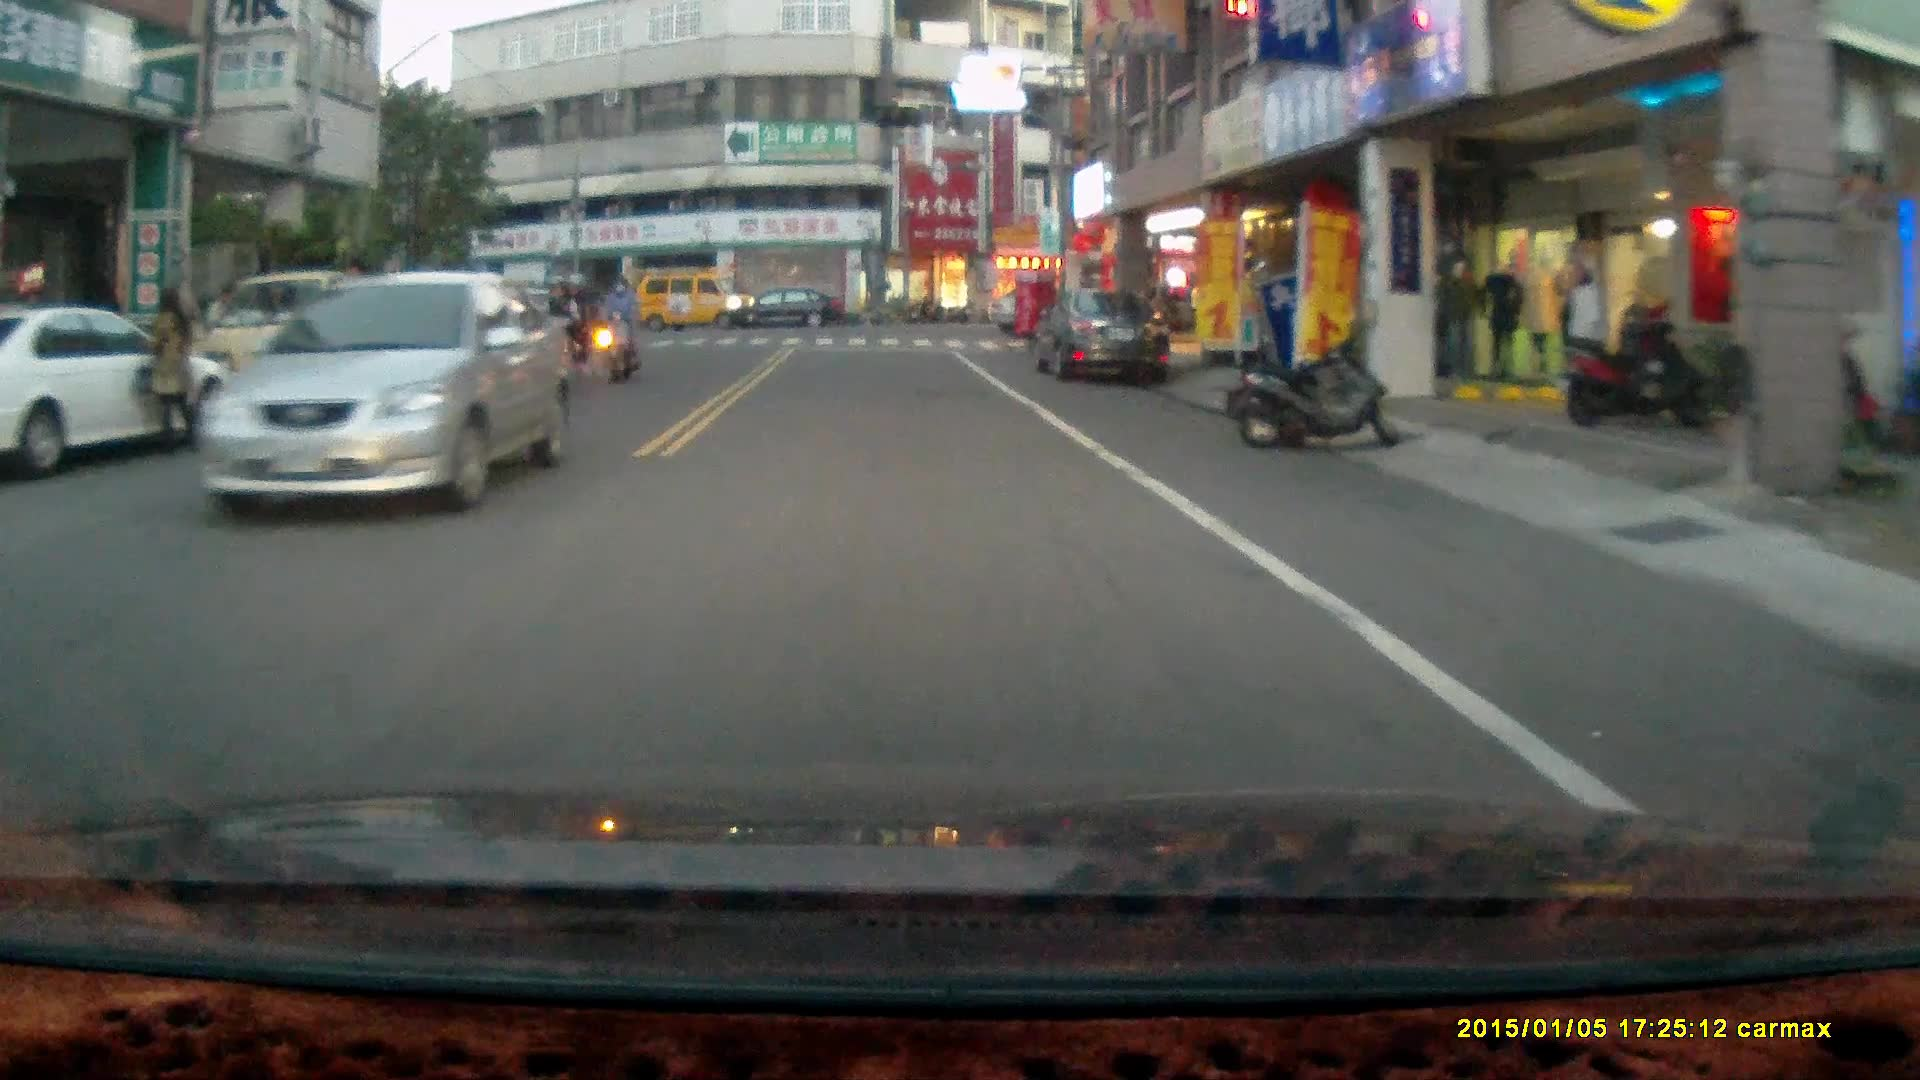pedestrian: (133, 283, 201, 460)
rider: (532, 270, 591, 403), (599, 274, 643, 386)
vehicle: (233, 274, 567, 538), (1, 305, 259, 484), (1035, 284, 1179, 385), (632, 268, 758, 339), (729, 288, 848, 333)
